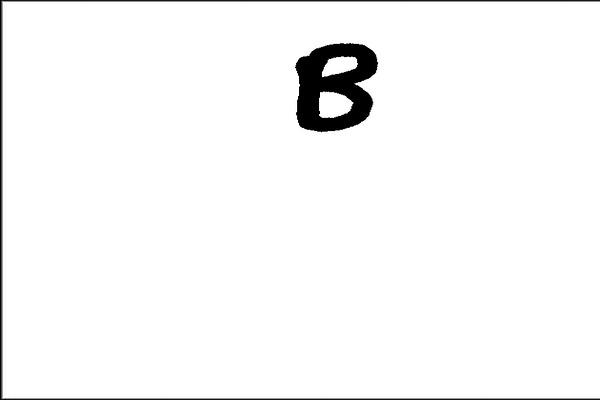B: (287, 34, 386, 134)
